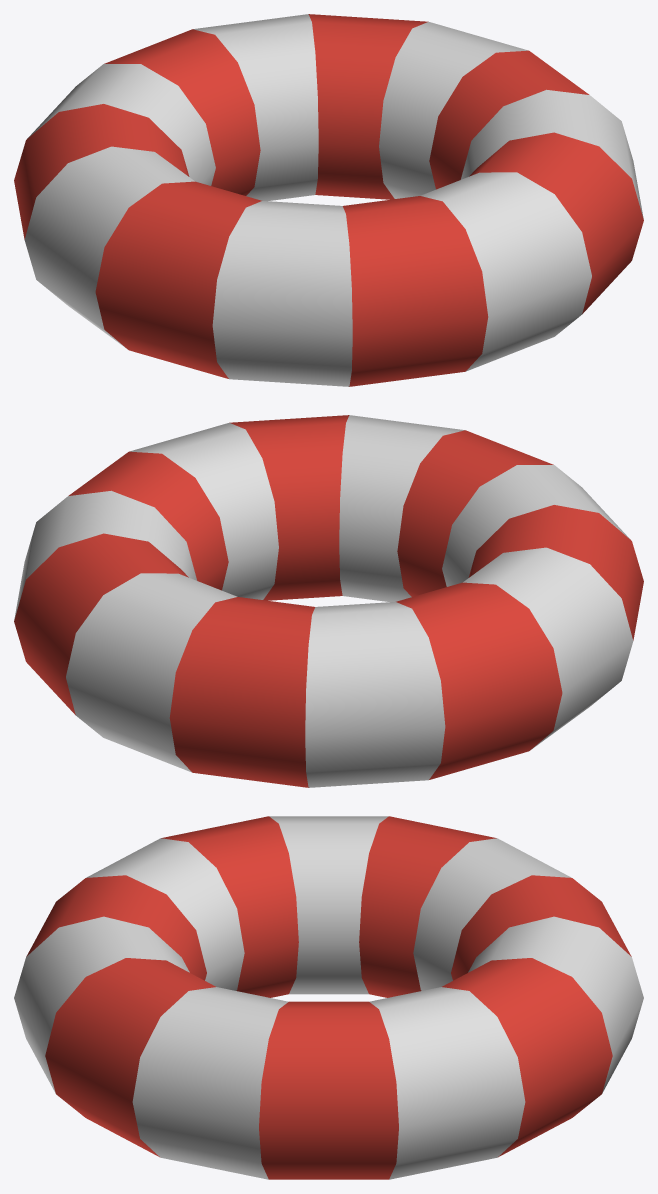
The model's file is RubberBuoy_1.FBX.
3 renders of one model, top to bottom at view 1: azimuth 30°, elevation 25°; view 2: azimuth 150°, elevation 25°; view 3: azimuth 270°, elevation 25°, orthographic.
Parts seen in each view (by area): view 1: RubberBuoy1; view 2: RubberBuoy1; view 3: RubberBuoy1.
Boxes of the visible parts, left/top/right/bottom form: RubberBuoy1: left=14, top=14, right=643, bottom=386; RubberBuoy1: left=14, top=415, right=643, bottom=787; RubberBuoy1: left=14, top=816, right=643, bottom=1179.
Bounding box in the file's own units: 5.34 × 1.56 × 5.47.
